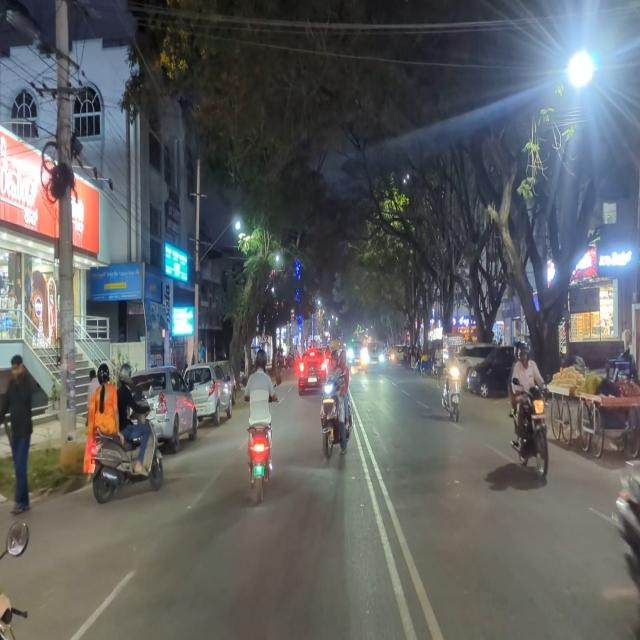bien_nguy_hiem: (260, 329, 268, 344)
